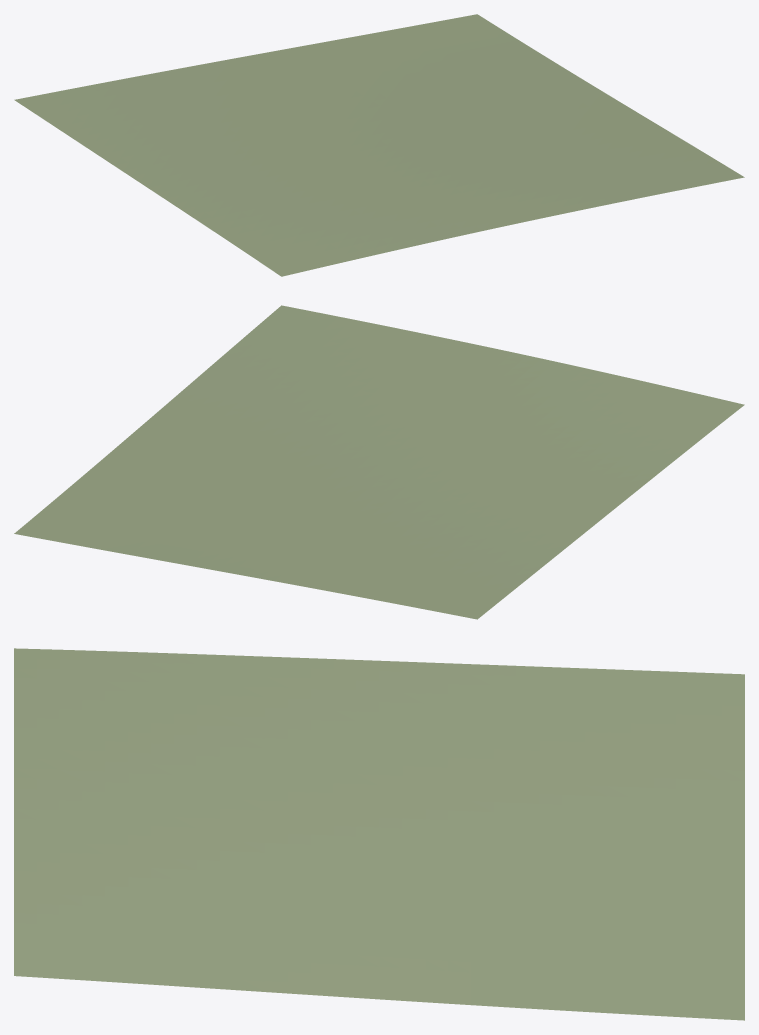
Rendered from desert-2-25.glb.
3 renders of one model, top to bottom at view 1: azimuth 30°, elevation 25°; view 2: azimuth 150°, elevation 25°; view 3: azimuth 270°, elevation 25°, orthographic. The views are drawn at different scales.
Visible parts, largest first — view 1: desert-2-25; view 2: desert-2-25; view 3: desert-2-25.
Part boxes in pixels (bbox=[...]): desert-2-25: bbox=[14, 14, 744, 276]; desert-2-25: bbox=[14, 305, 744, 619]; desert-2-25: bbox=[14, 648, 744, 1020].
Size of the model in its own units: 512 by 48.84 by 512.
